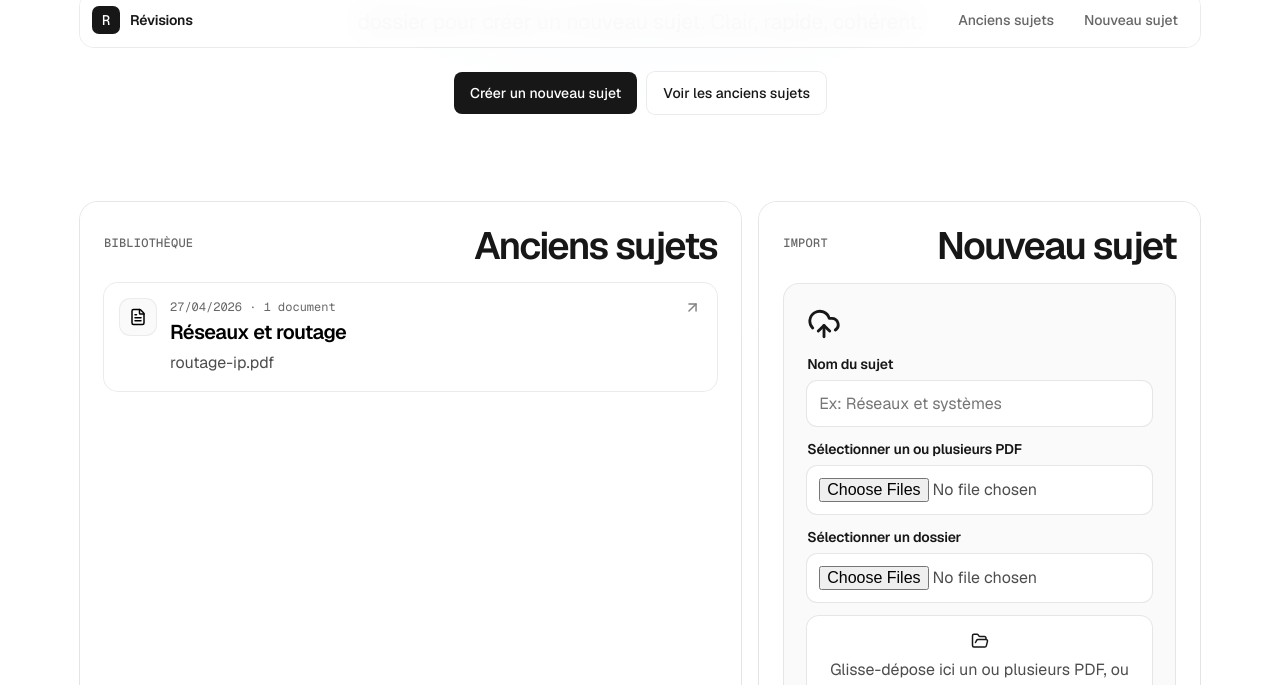
Test: Revision platform - étape 2 data coherence › opens a full-page revision course without hardcoded Pythagore for another subject
(page scrolled)
Click the button with aria-label "ouvrir les détails de réseaux et routage". click: (138, 317)
box: [104,283,717,391]
(page scrolled)
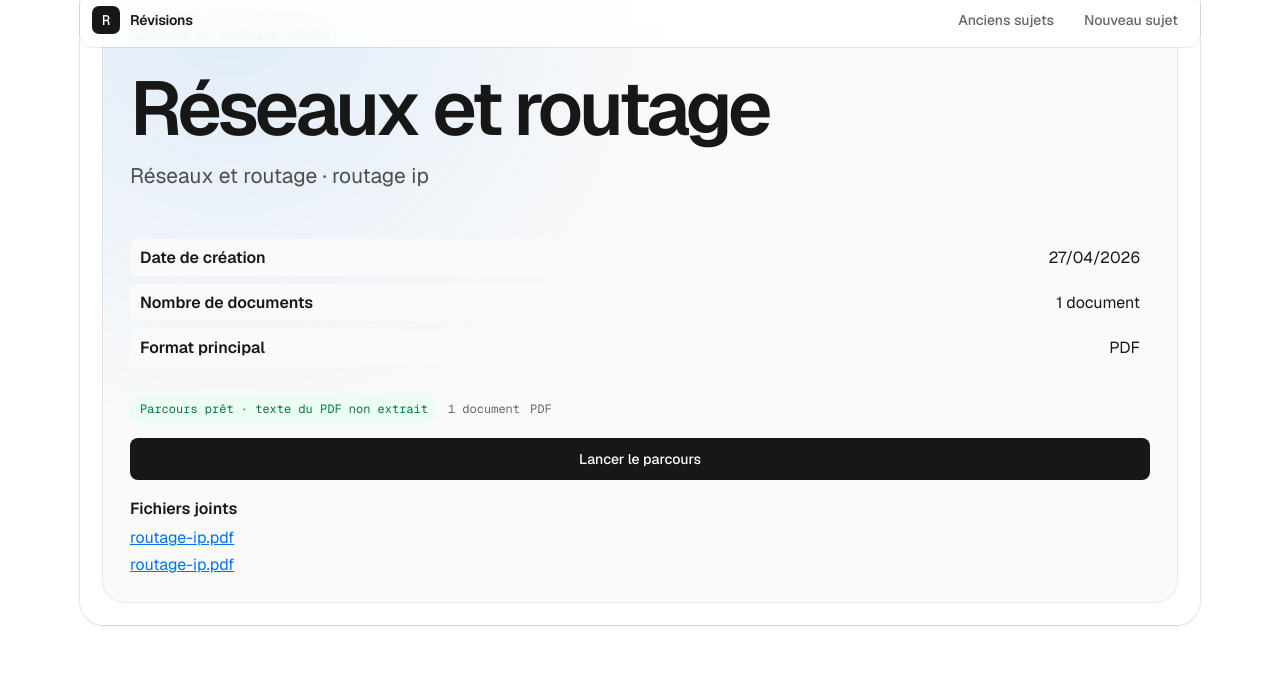
Check: the heading "Réseaux et routage" is shown, box [130,59,769,157]
Check: the button "Lancer le parcours" is shown
Click the button "Lancer le parcours". click: (640, 459)
box: [130,438,1150,480]
(page scrolled)
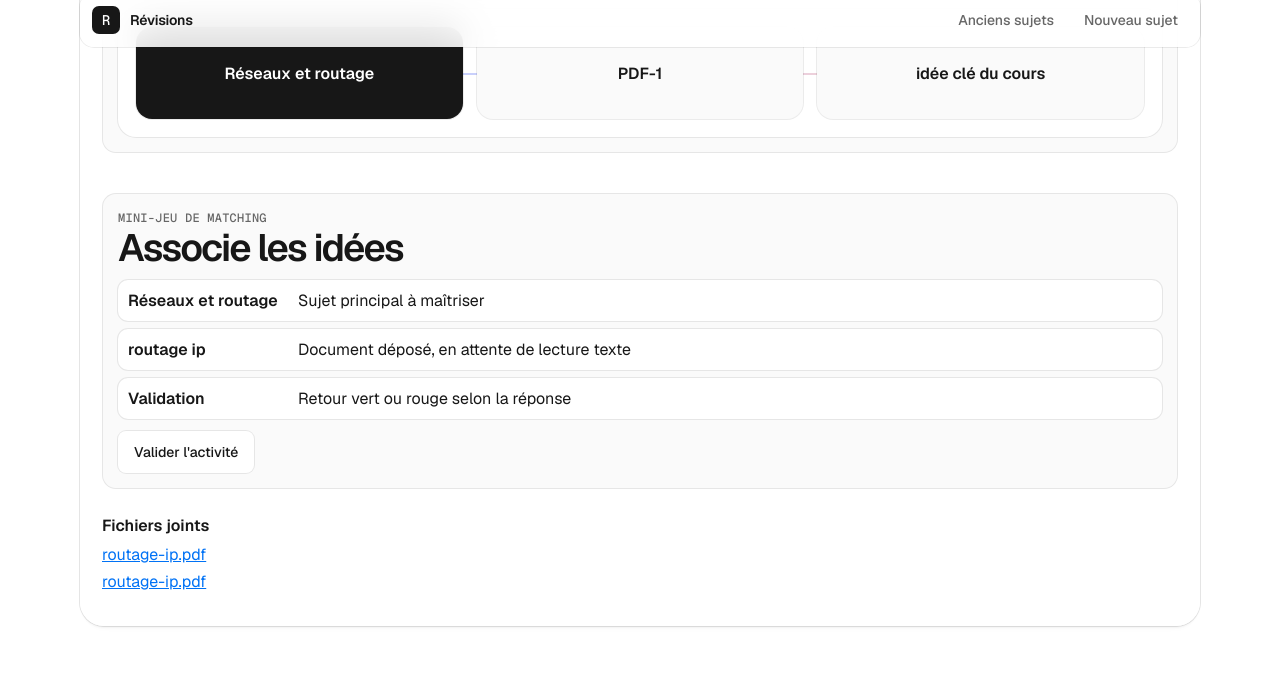
Check: the button "Valider l'activité" is shown, box [118,431,254,473]
